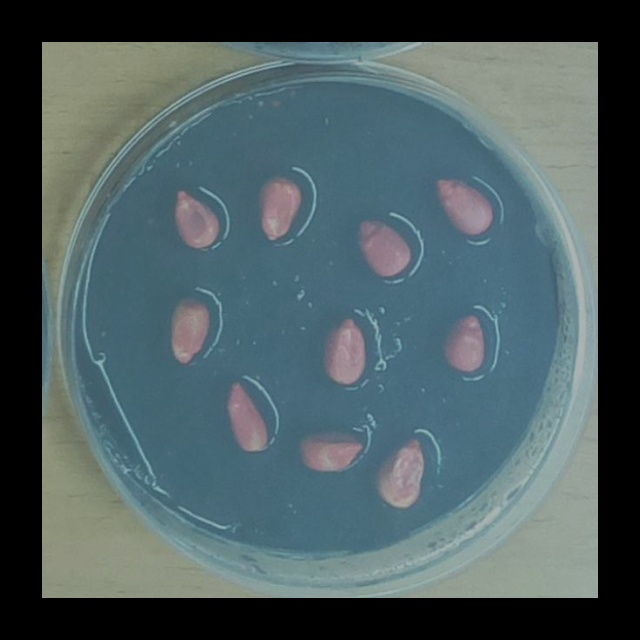Zea mays: (367, 429, 429, 514), (220, 373, 280, 456), (430, 169, 499, 241), (316, 308, 373, 392), (350, 213, 417, 284), (290, 421, 370, 479), (252, 167, 307, 247), (164, 290, 215, 369), (169, 180, 224, 253), (435, 307, 490, 379)
